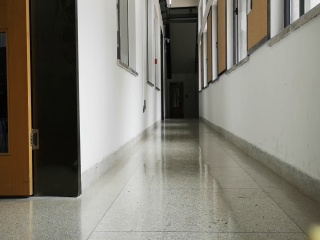room: (1, 1, 84, 194)
